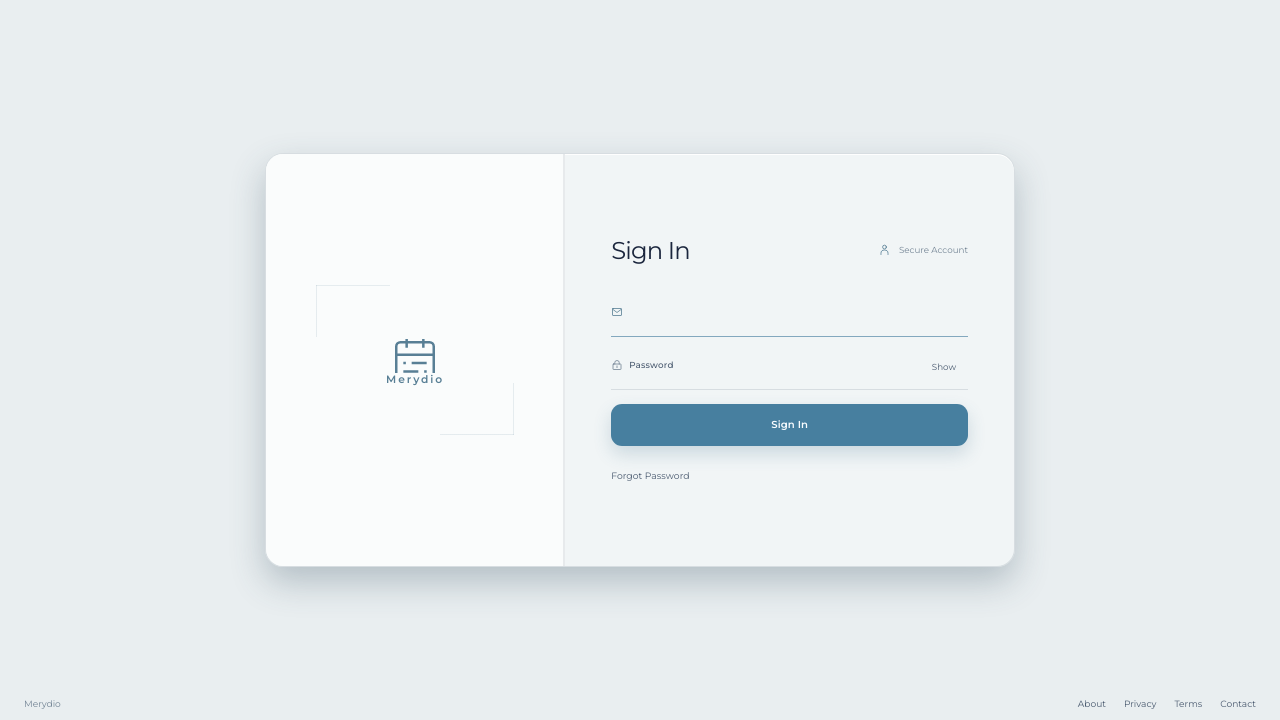
account recovery screens › requests a password reset without revealing account existence
Click the button "Forgot Password".
click(650, 476)  # box [611, 467, 690, 486]
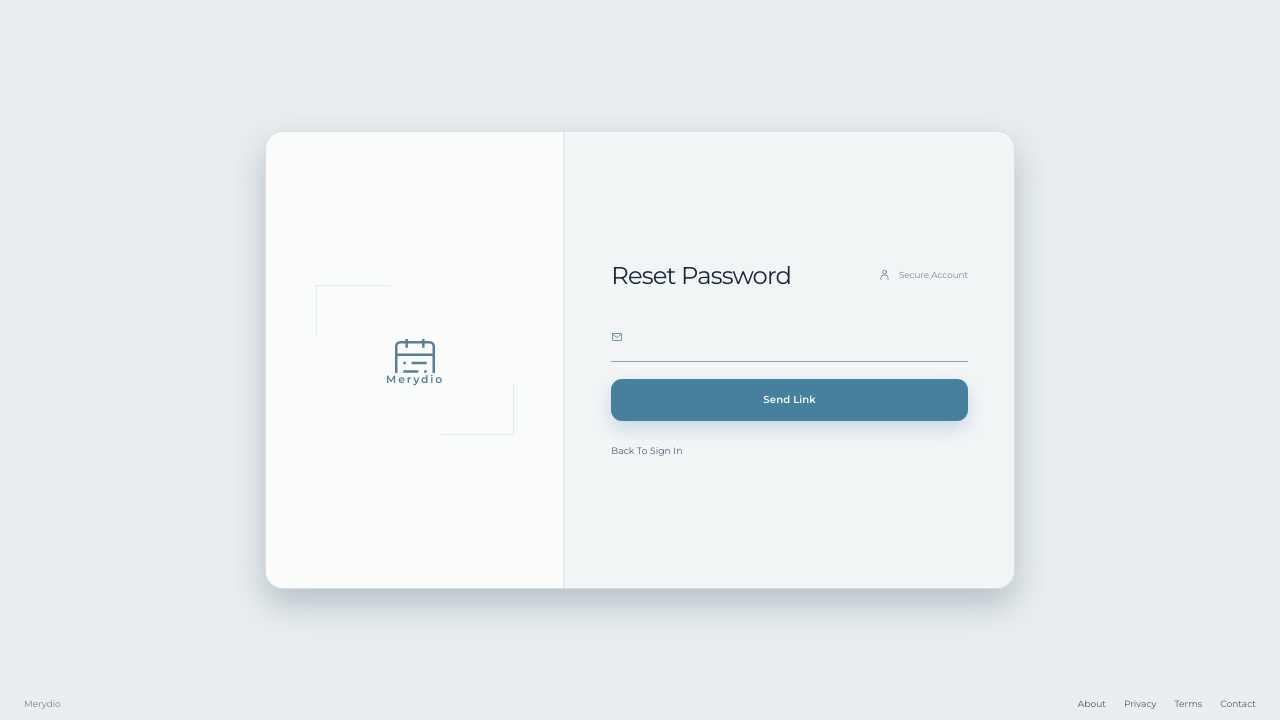
Type "operator@example.org" into the field named "Email".
click(790, 340); type("operator@example.org")  # box [611, 319, 968, 361]
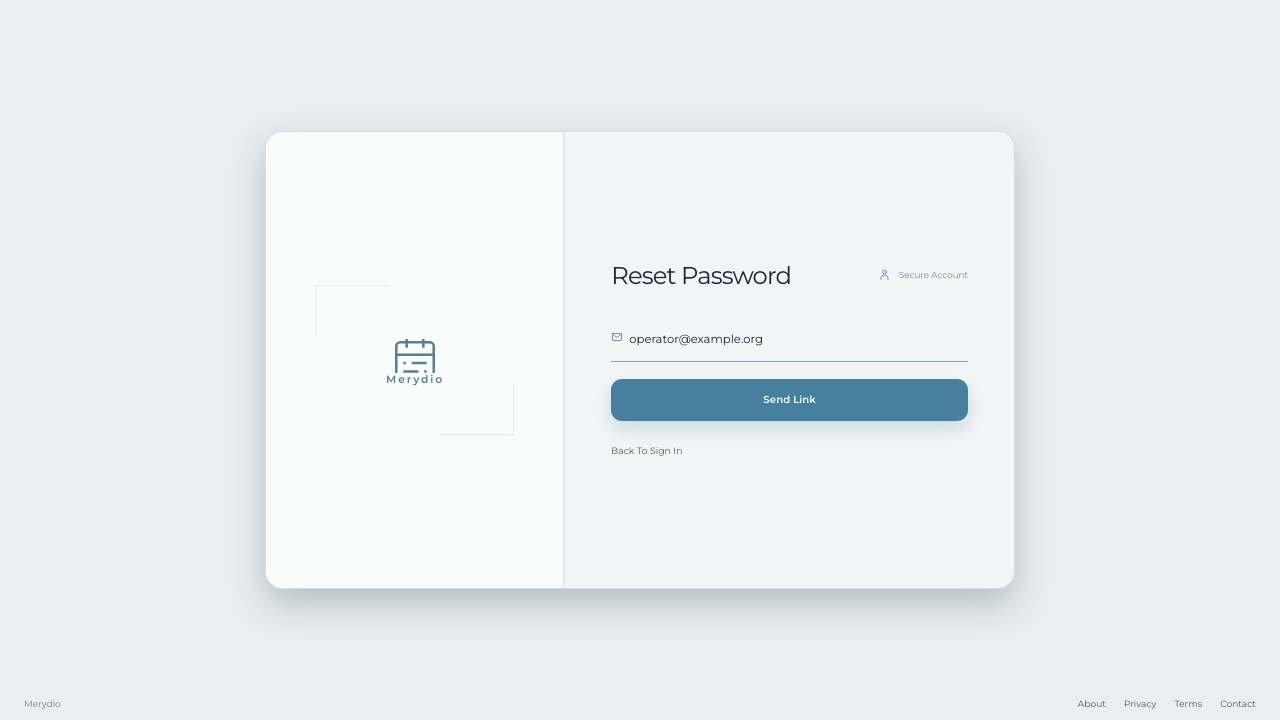
Click the button "Send Link".
click(790, 400)  # box [611, 379, 968, 421]
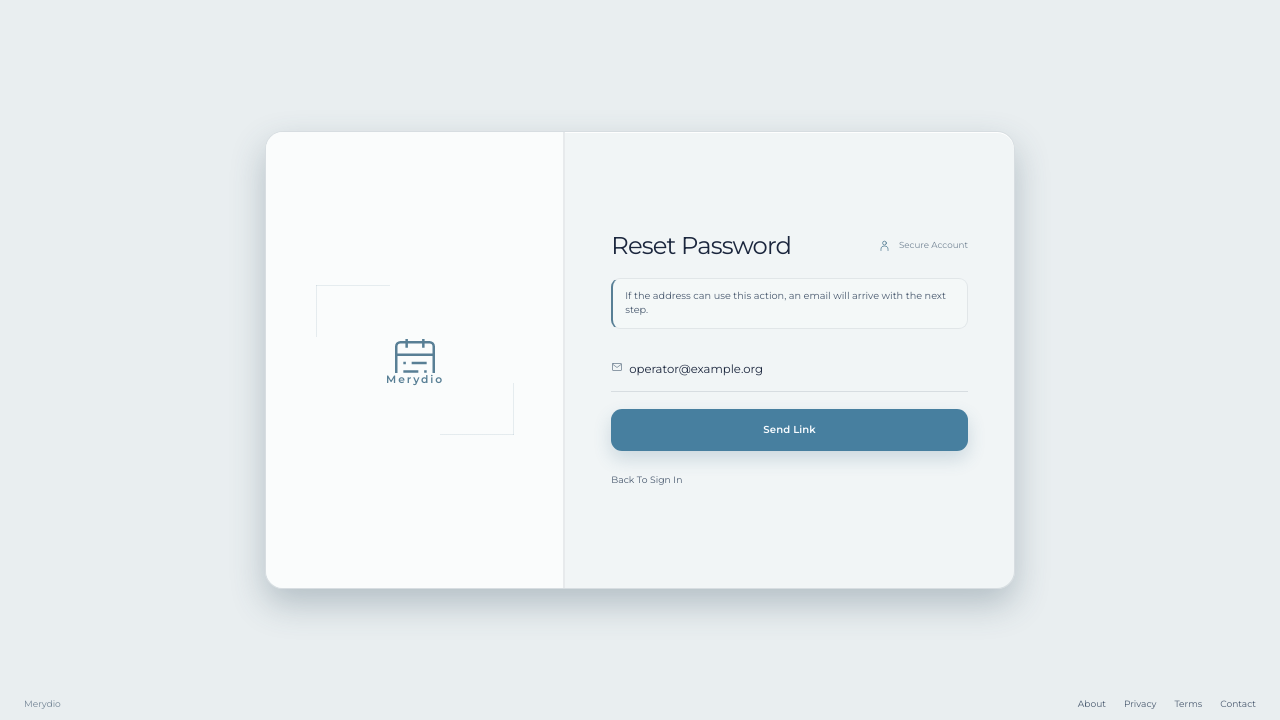
Check: the text "If the address can use this action, an email will arrive with the next step." is shown, box [611, 278, 968, 329]
